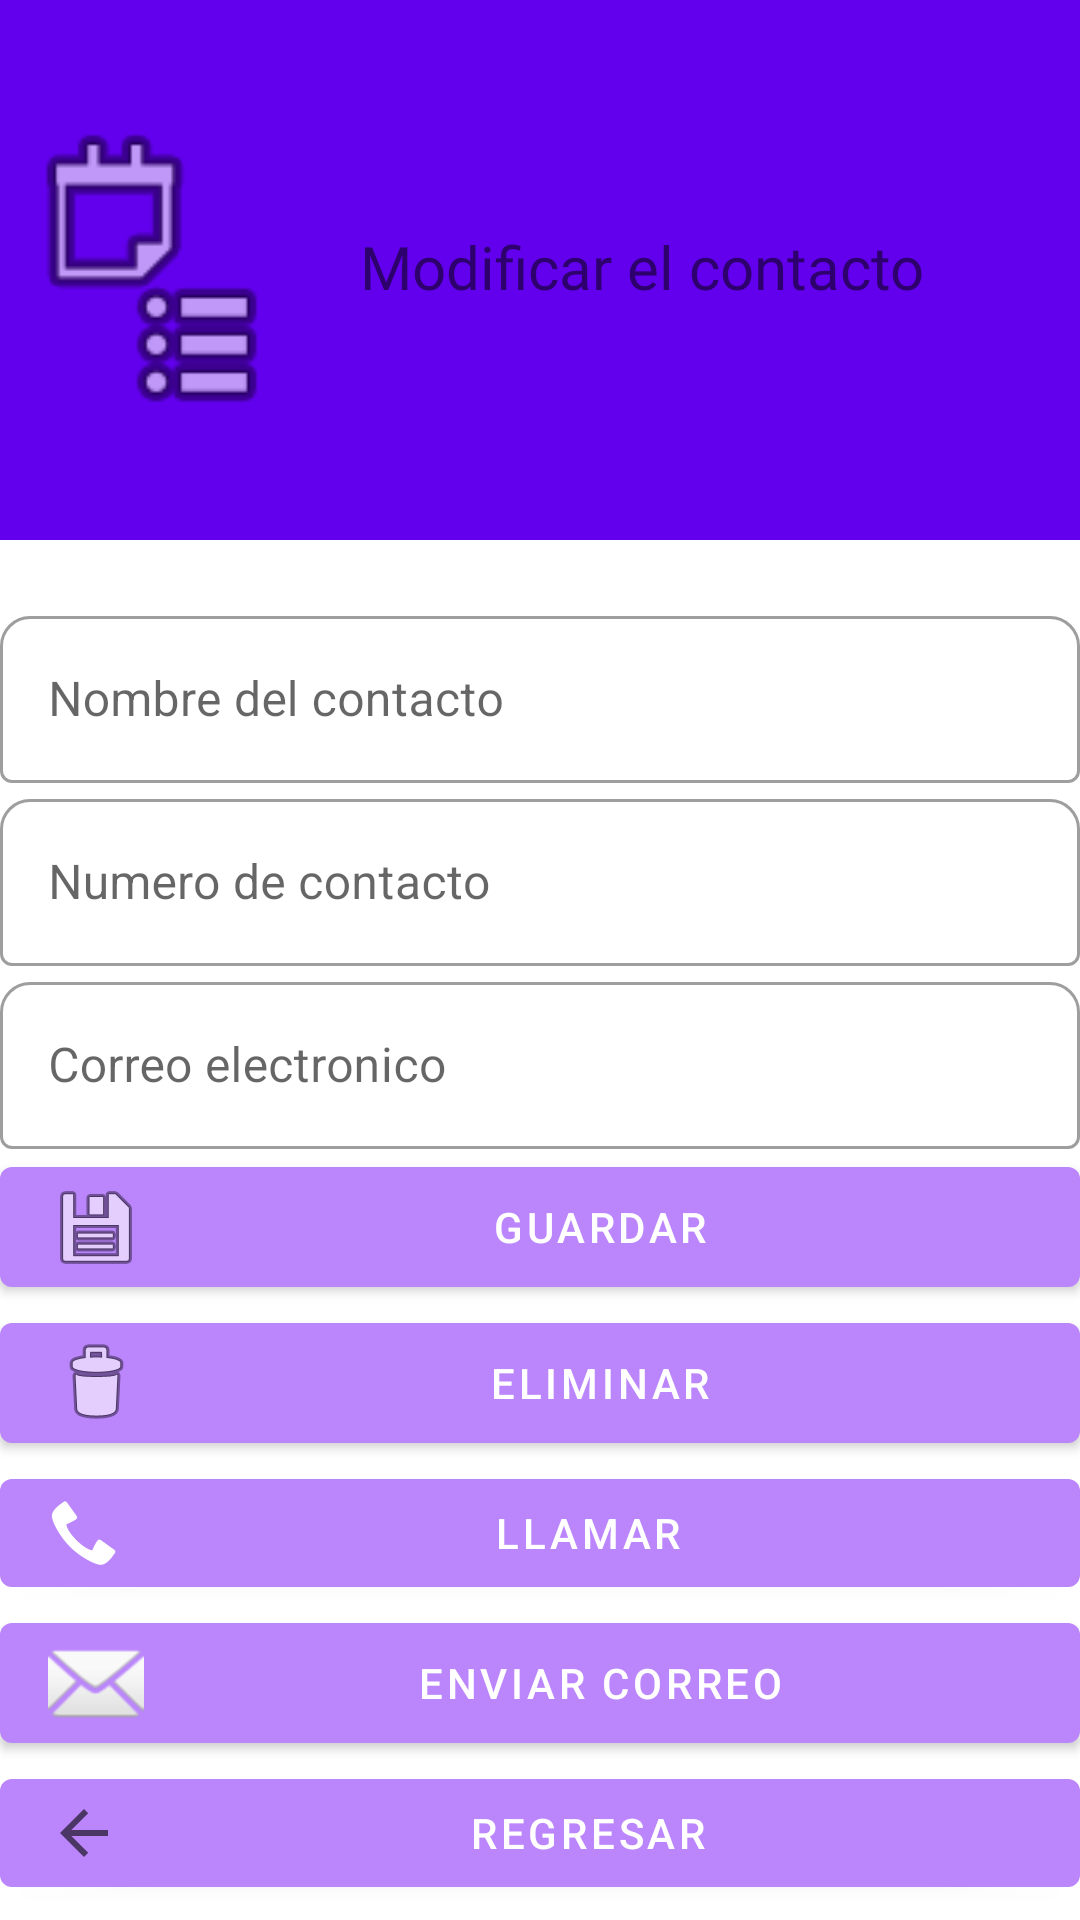

Icon click points for this 1080px×1920px phone screenshot, format [x,y]:
agenda: [151,268]
